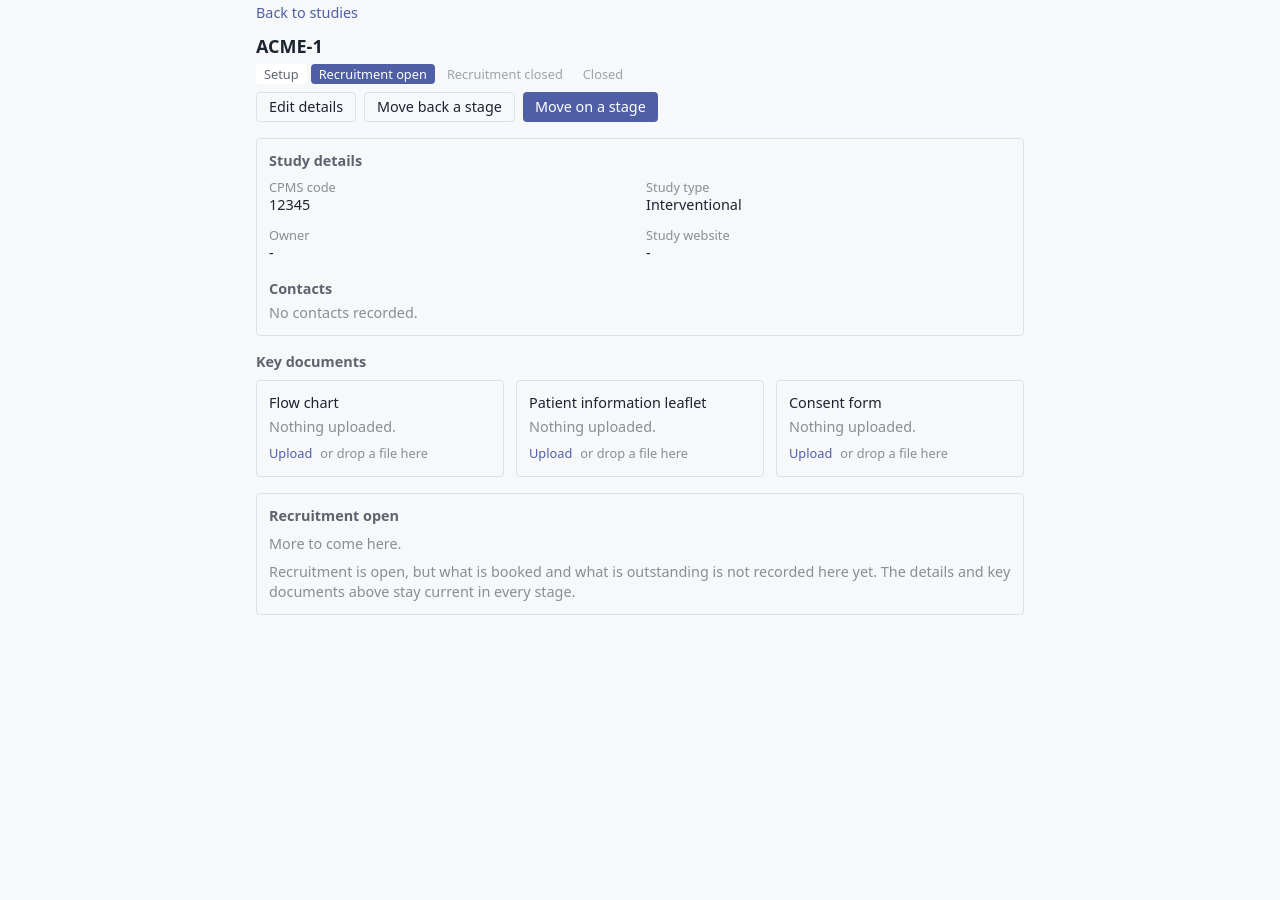
Test: StudyPage transitions › offers different copy for moving back a stage
Click the button "Move back a stage": (440, 107) [364,92,515,122]
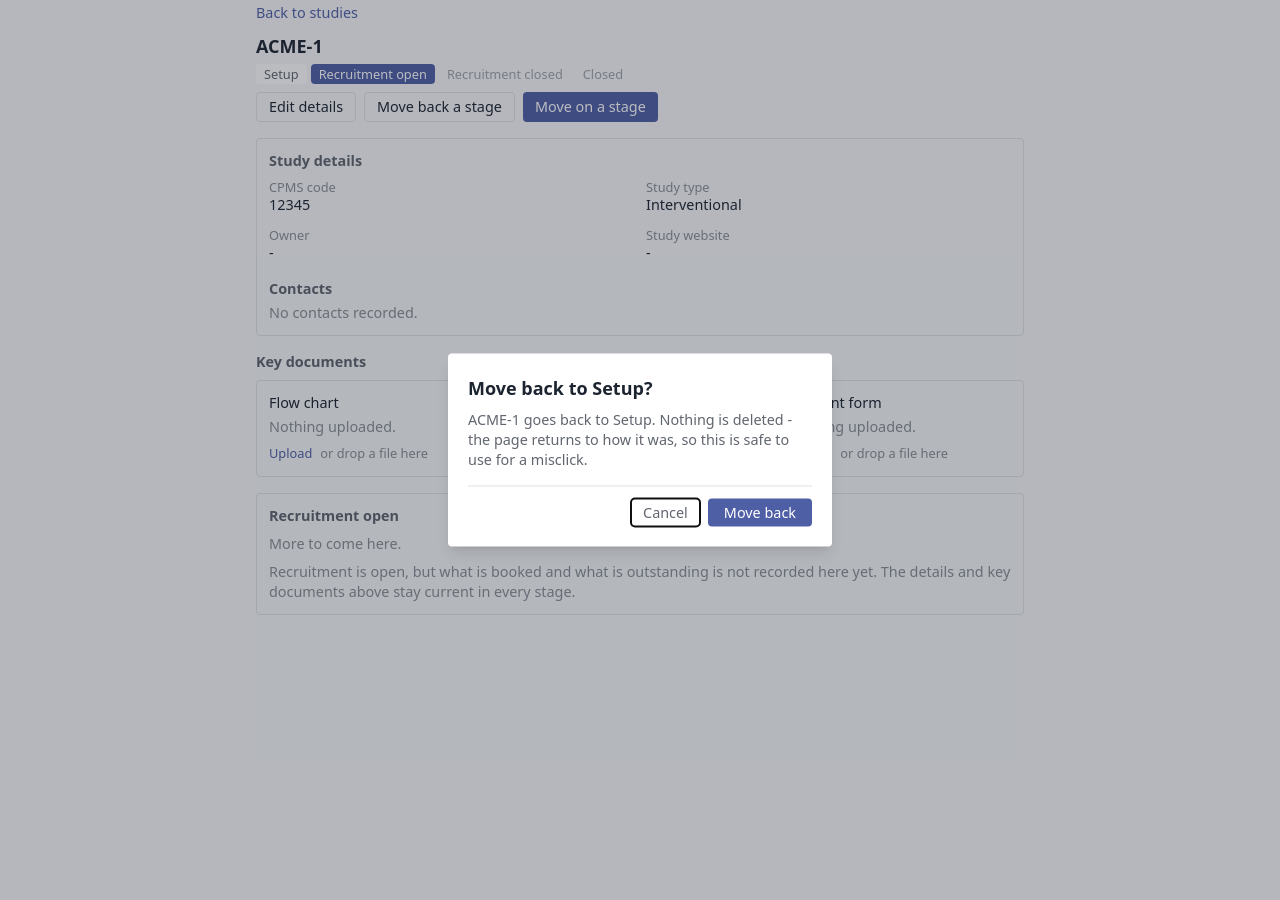
Expected: the text "Nothing is deleted" is shown, [468,410,792,468]
Expected: the button "Move back" is shown, [708,498,812,526]
